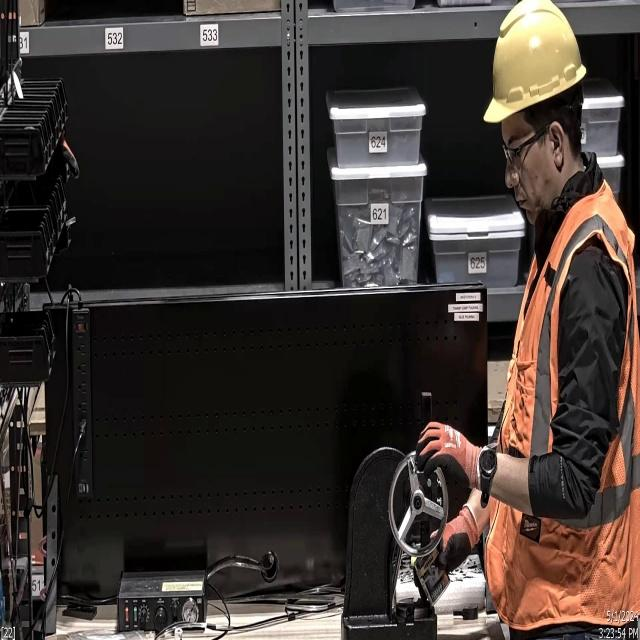gloves: (418, 421, 490, 494)
